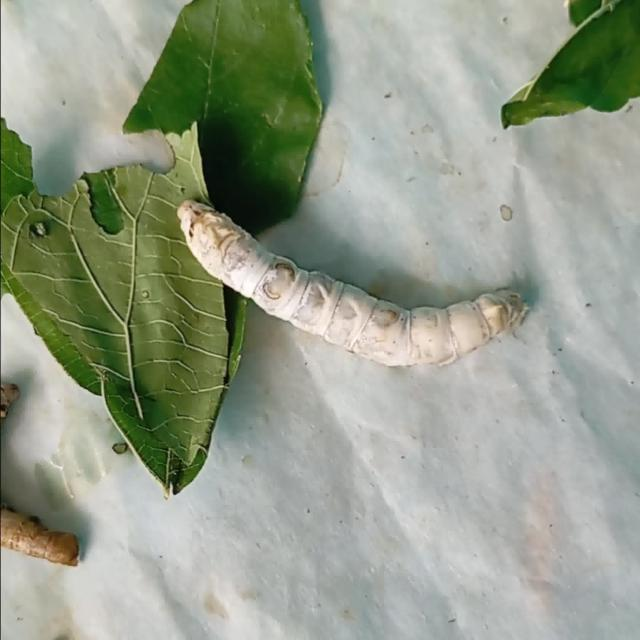Grasserie: (167, 182, 538, 370)
